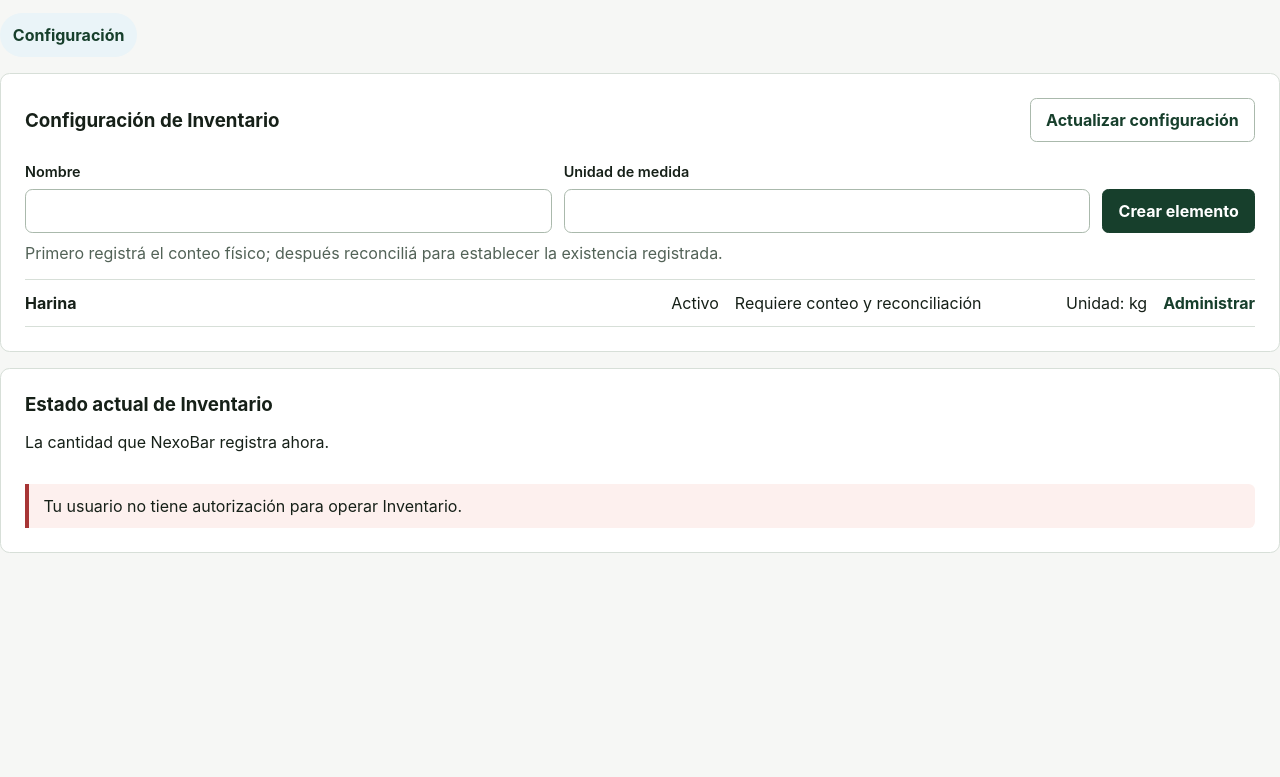
Test: InventoryPanel › corrects Unit with the exact observed and new Unit intent
The image size is (1280, 777).
Click the heading "Harina" at [51, 303], box [25, 293, 1255, 313]
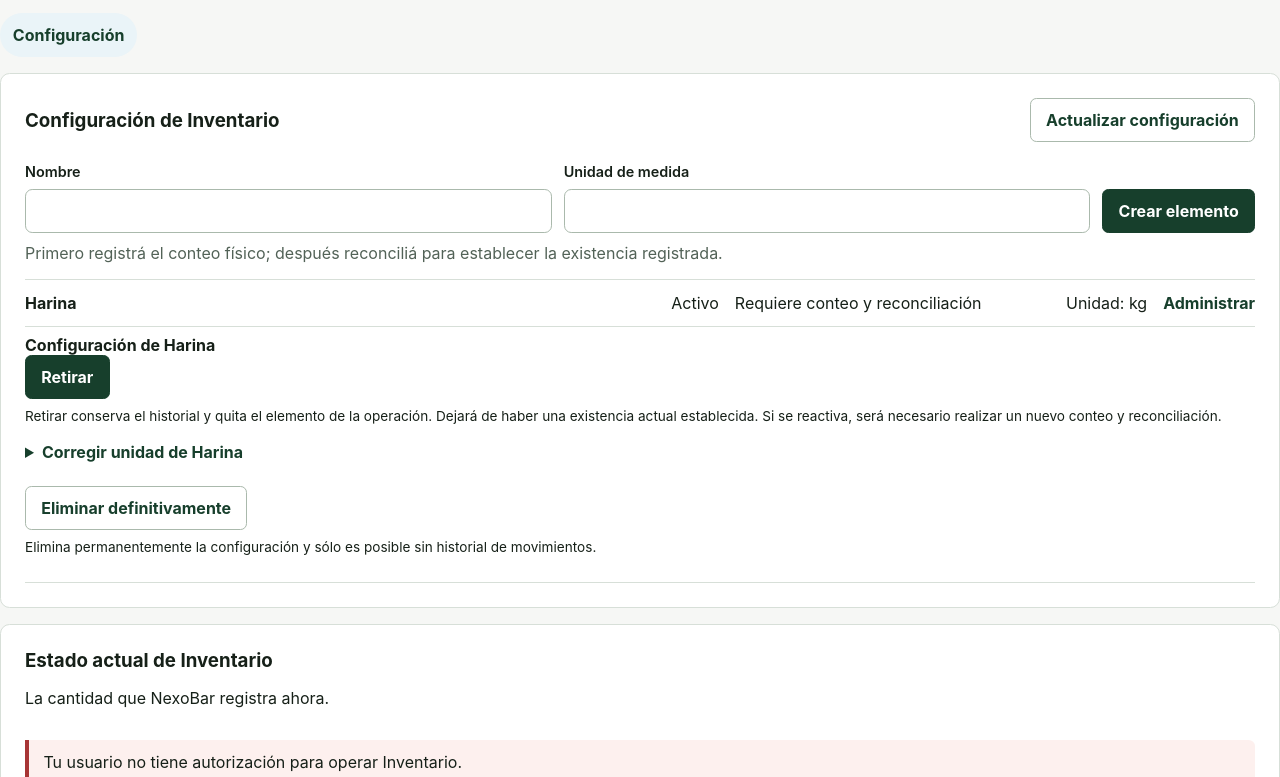
Click the heading "Corregir unidad de Harina" at [142, 452], box [42, 442, 243, 462]
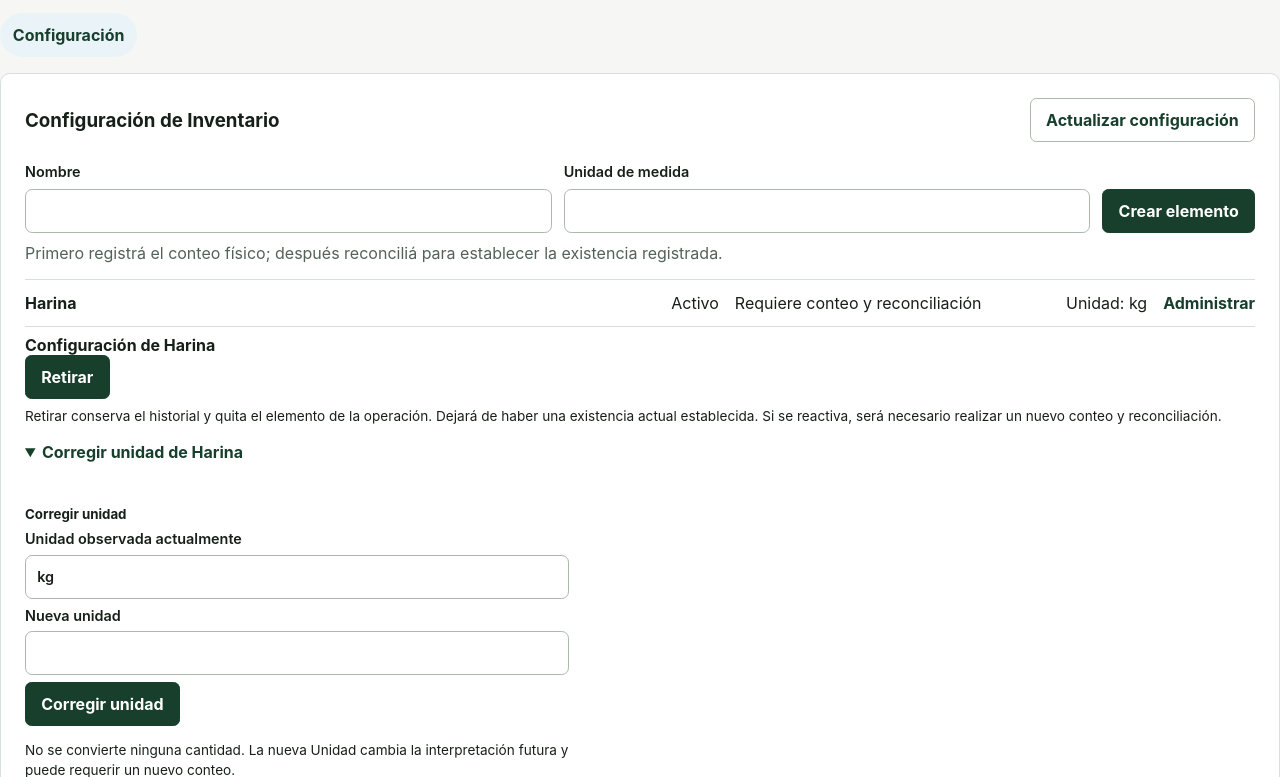
Type "l" into the field named "Nueva unidad de Harina" at [297, 653], box [25, 631, 569, 675]
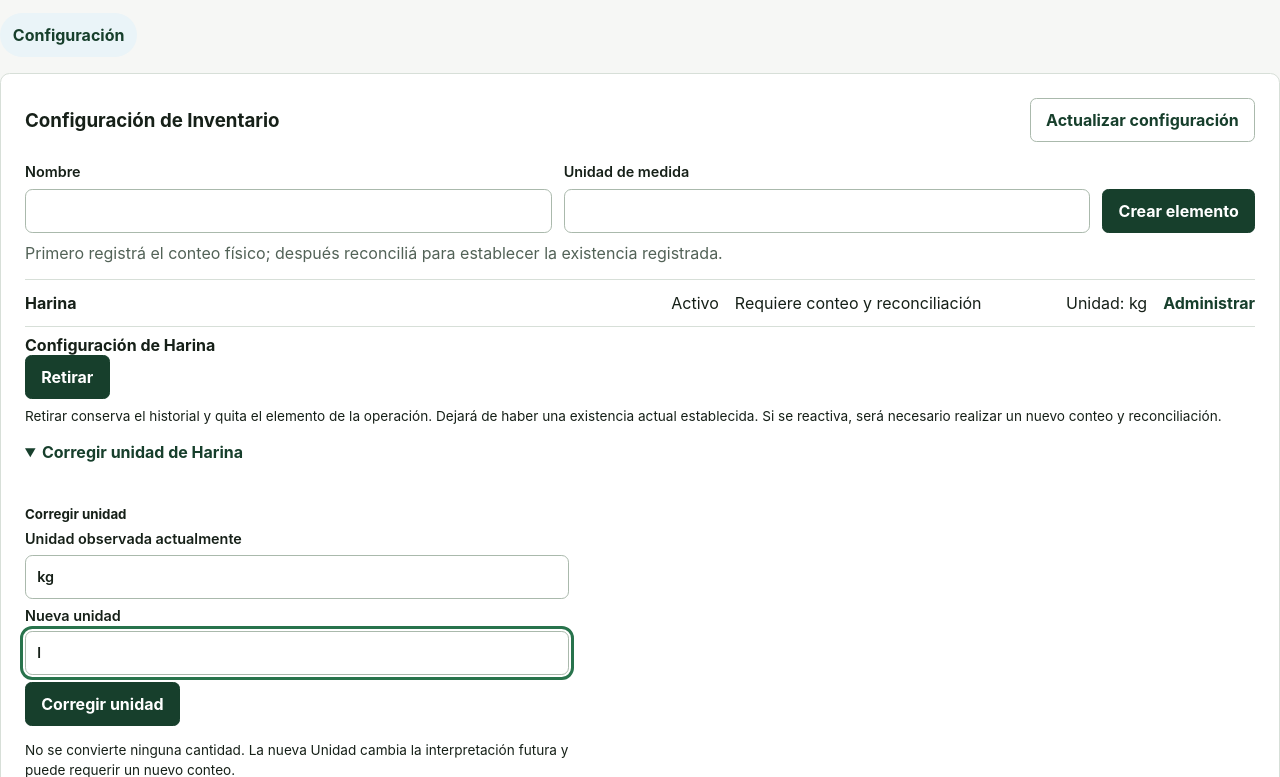
Click the button "Corregir unidad" at [102, 704], box [25, 682, 180, 726]
(page scrolled)
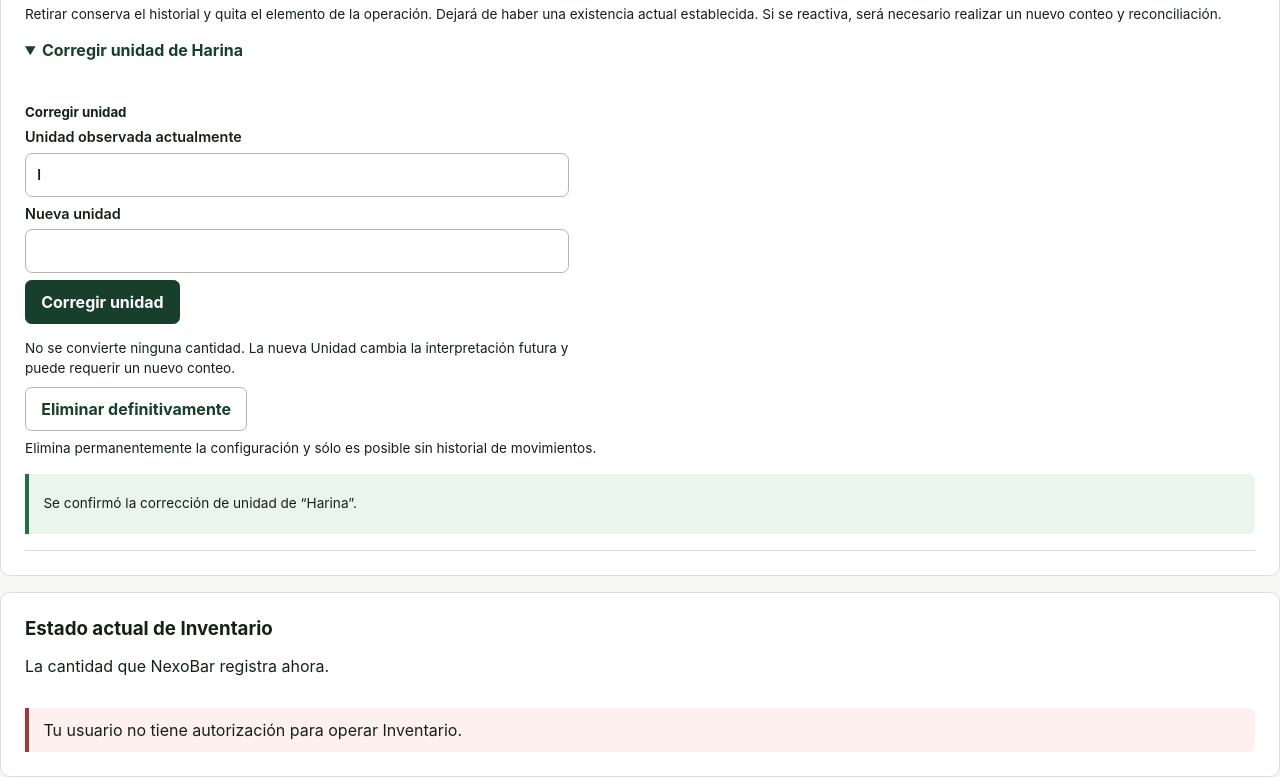
Check: the text "Se confirmó la corrección de unidad de “Harina”." is shown, box [43, 495, 357, 511]
